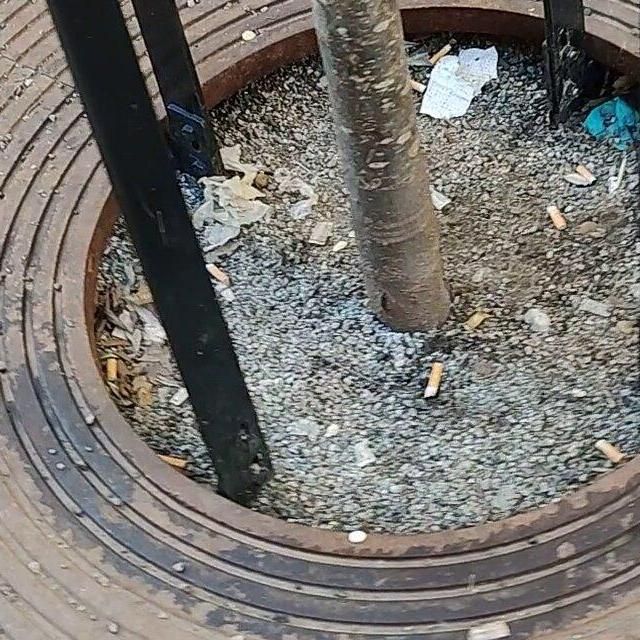Cigarette Butt: (425, 360, 448, 403), (593, 435, 623, 464), (463, 311, 491, 340), (428, 38, 453, 70), (540, 205, 568, 230), (573, 154, 597, 182), (154, 451, 188, 469), (102, 355, 119, 385), (207, 263, 231, 284), (404, 78, 425, 98)
